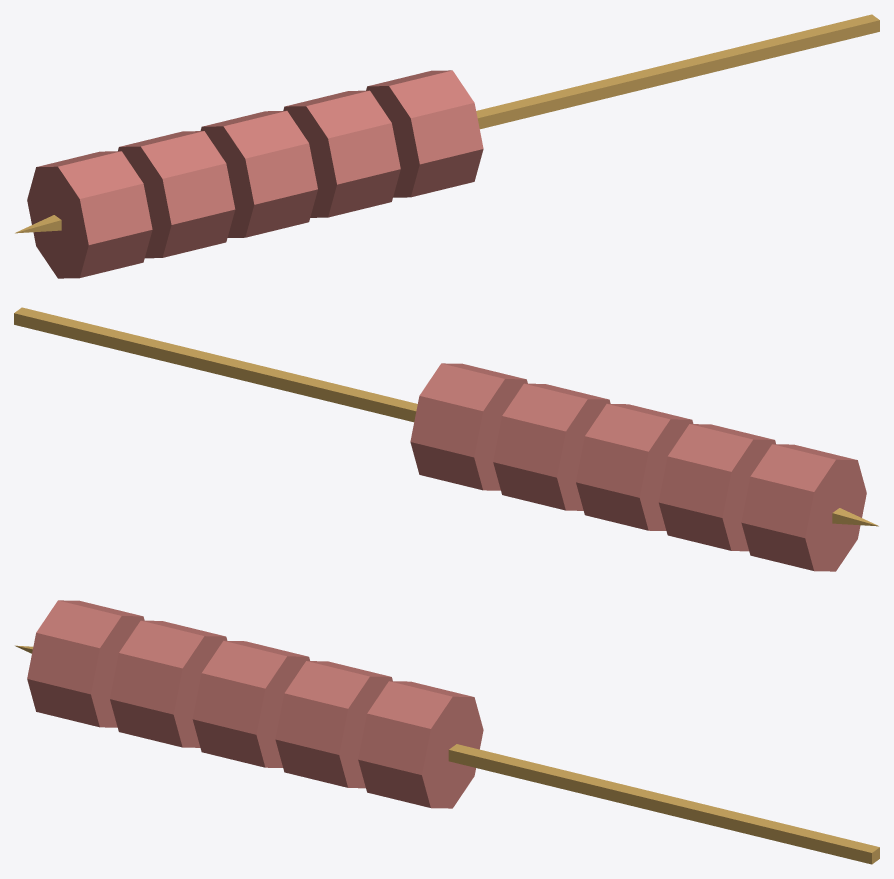
Rendered from SM_Cook_SkewerSatay_Raw_01.fbx.
3 renders of one model, top to bottom at view 1: azimuth 30°, elevation 25°; view 2: azimuth 150°, elevation 25°; view 3: azimuth 330°, elevation 25°, orthographic.
Visible parts, largest first — view 1: SM_Cook_SkewerSatay_Raw_01; view 2: SM_Cook_SkewerSatay_Raw_01; view 3: SM_Cook_SkewerSatay_Raw_01.
Boxes of the visible parts, x1,y1,x2,y2 form: SM_Cook_SkewerSatay_Raw_01: (15,14,879,278); SM_Cook_SkewerSatay_Raw_01: (14,307,878,571); SM_Cook_SkewerSatay_Raw_01: (15,600,879,864).
Bounding box in the file's own units: 0.25 × 0.031 × 0.031.
1 material, 1 textured.
